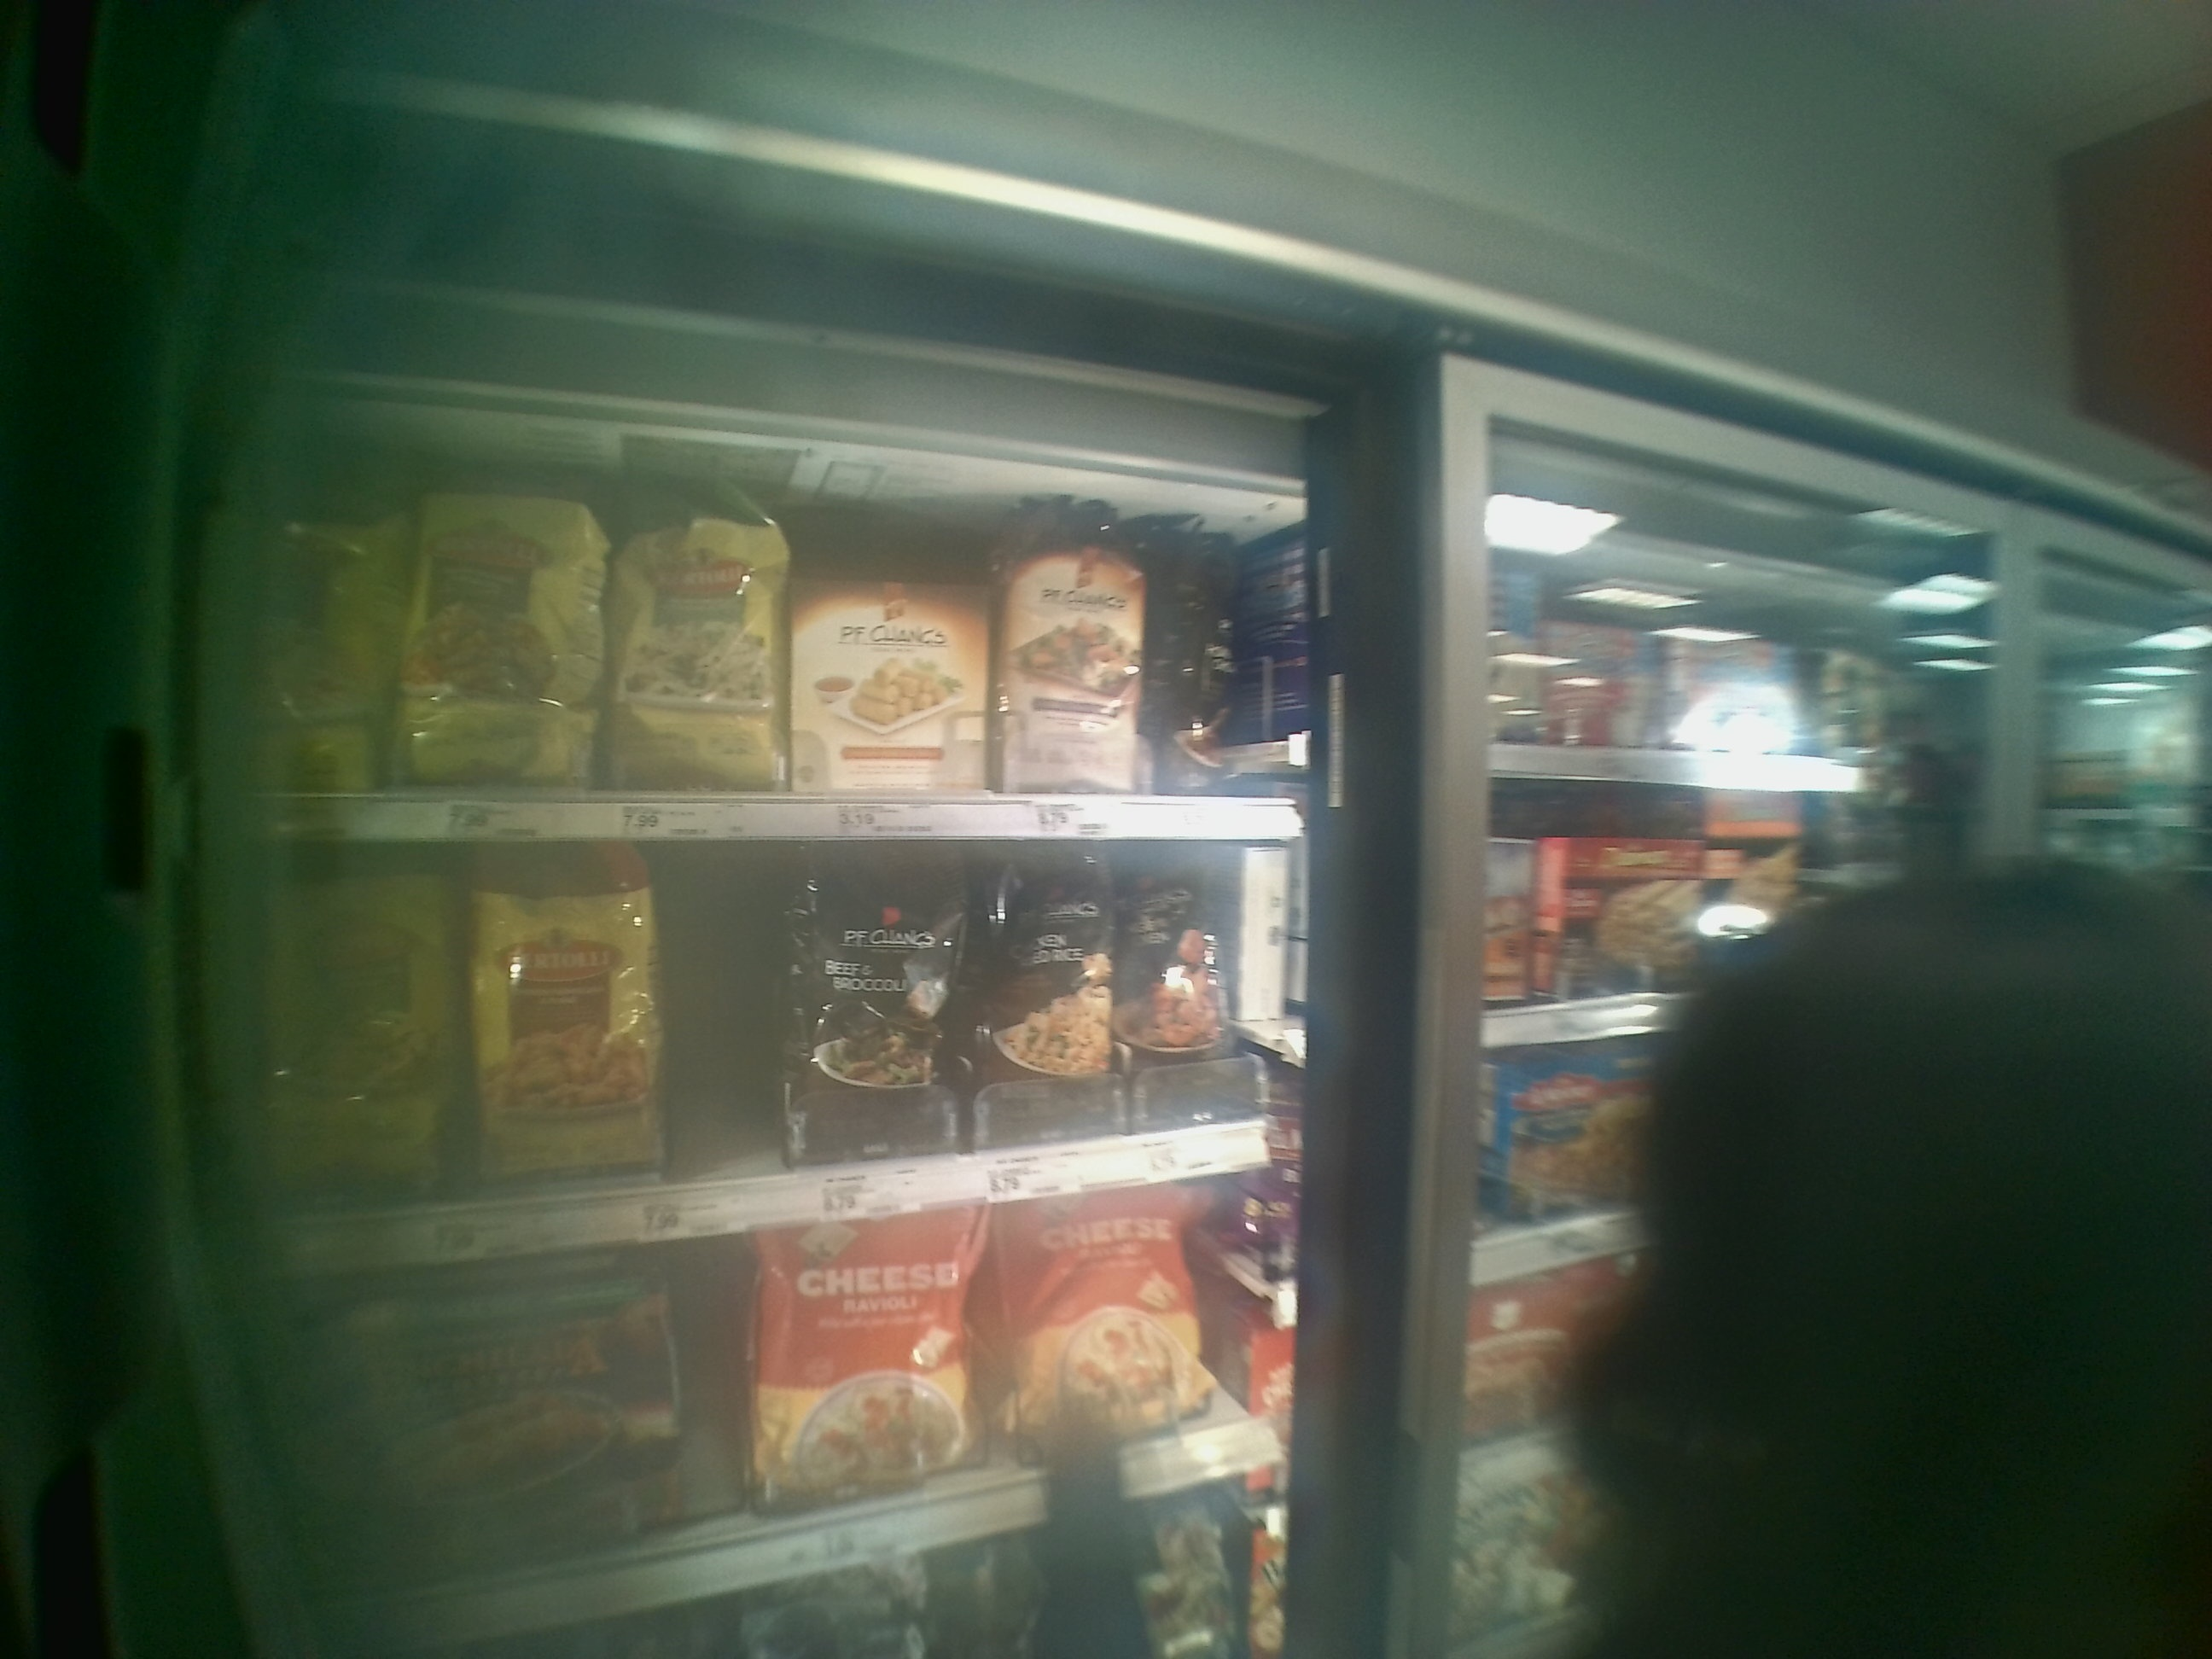shelf: (242, 439, 1313, 849), (242, 866, 1273, 1276)
